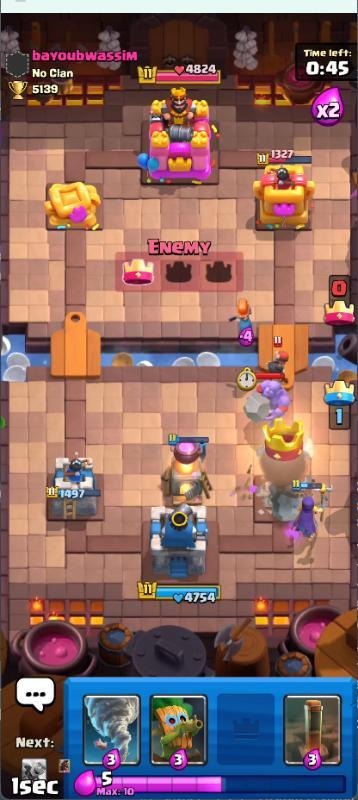enemy_bomber: (263, 330, 292, 372)
enemy_bowler: (244, 368, 294, 427)
player_valkyrie: (225, 294, 257, 349)
player_witch: (285, 476, 330, 539)
